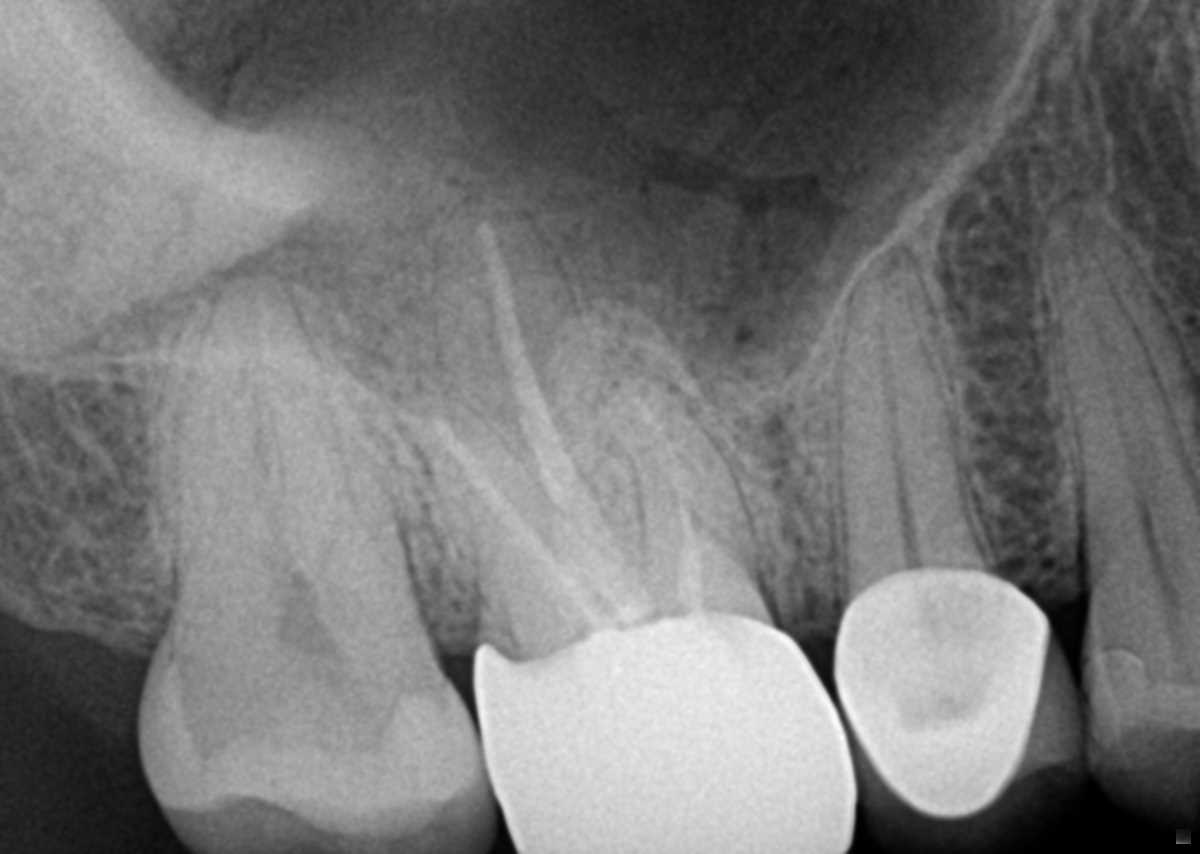Apical Lesion: (579, 336, 696, 429)
Distal Root: (394, 387, 620, 637), (173, 363, 285, 615)
Main Canal: (1078, 293, 1157, 537), (880, 260, 927, 571)
Main Root: (1040, 201, 1200, 561), (837, 249, 989, 593)
Mesial Canal: (312, 493, 345, 585)
Mesial Root: (599, 373, 762, 592), (270, 358, 398, 595)
Palatal Root: (432, 195, 672, 649), (172, 272, 379, 605)
Root Canal Filling: (477, 223, 640, 628), (436, 422, 617, 626), (635, 399, 699, 603)
